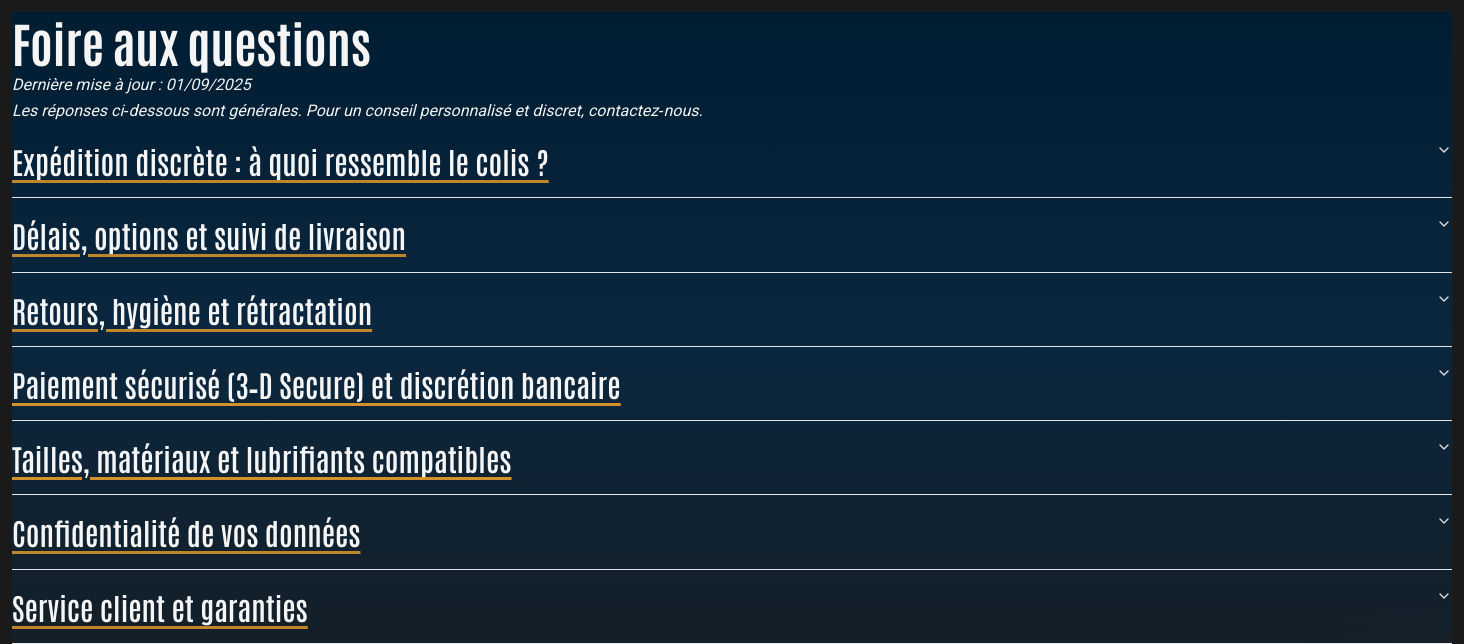
Scenario: FAQ (MDX) › rend le titre et peut ouvrir un item d'accordéon
The width and height of the screenshot is (1464, 644).
Check: the heading "Foire aux questions" is shown, box [12,11,371,73]
Click the button "Confidentialité de vos données" at [186, 532], box [12,495,1452,569]
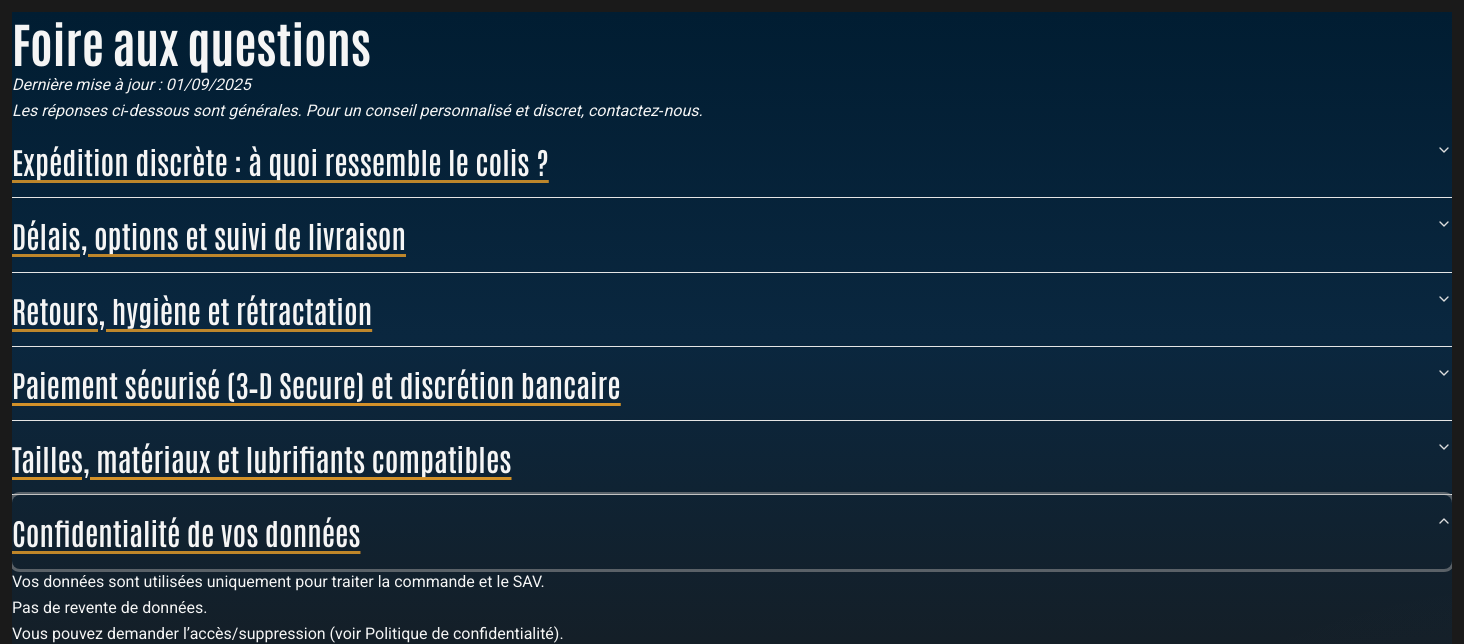
Check: the text "Vos données sont utilisées uniquement" is shown, box [12,572,545,590]
